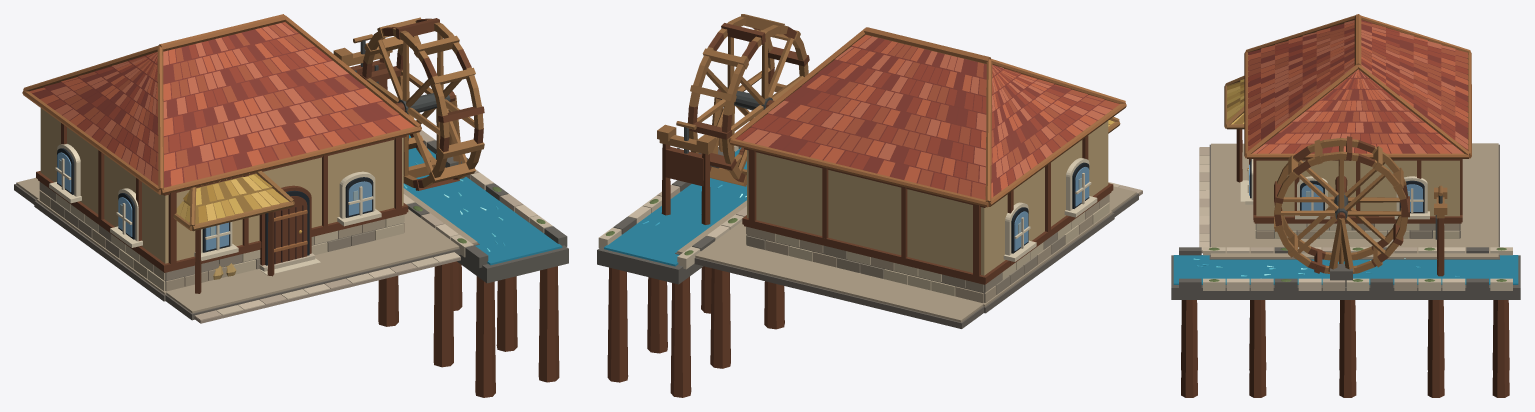
Rendered from watermill-nivel-2.glb.
3 renders of one model, left to right at view 1: azimuth 30°, elevation 25°; view 2: azimuth 150°, elevation 25°; view 3: azimuth 270°, elevation 25°, orthographic. The views are drawn at different scales.
Visible parts, largest first — view 1: Moinho 02 #70432c, Moinho 02 #853e33, Moinho 02 #c6aa7d, Moinho 02 #b4a38a, Aros e pás 1 #9f7145.001, Moinho 02 #a76e42, Moinho 02 #c06b4f, Moinho 02 #bf6243, Moinho 02 #9b4735, Moinho 02 #a8563c, Moinho 02 #256477, Moinho 02 #e6d7ba (+16 smaller); view 2: Moinho 02 #c6aa7d, Moinho 02 #70432c, Moinho 02 #853e33, Moinho 02 #b4a38a, Moinho 02 #9b4735, Moinho 02 #a8563c, Moinho 02 #a76e42, Aros e pás 1 #9f7145.001, Moinho 02 #bf6243, Moinho 02 #c06b4f, Moinho 02 #256477, Moinho 02 #746c62 (+9 smaller); view 3: Moinho 02 #70432c, Moinho 02 #b4a38a, Moinho 02 #853e33, Aros e pás 1 #9f7145.001, Moinho 02 #256477, Moinho 02 #9b4735, Moinho 02 #6a665e, Moinho 02 #bf6243, Moinho 02 #c6aa7d, Moinho 02 #a8563c, Moinho 02 #c06b4f, Moinho 02 #a76e42 (+11 smaller).
Part boxes in pixels (x1,y1,x2,y2): Moinho 02 #70432c: [36, 58, 559, 397]; Moinho 02 #853e33: [32, 23, 400, 187]; Moinho 02 #c6aa7d: [40, 108, 403, 263]; Moinho 02 #b4a38a: [16, 177, 477, 313]; Aros e pás 1 #9f7145.001: [363, 17, 484, 187]; Moinho 02 #a76e42: [22, 14, 421, 252]; Moinho 02 #c06b4f: [51, 23, 368, 180]; Moinho 02 #bf6243: [29, 28, 414, 185]; Moinho 02 #9b4735: [47, 36, 399, 172]; Moinho 02 #a8563c: [64, 22, 398, 185]; Moinho 02 #256477: [403, 135, 562, 265]; Moinho 02 #e6d7ba: [49, 144, 381, 275]; Moinho 02 #c6aa7d: [747, 121, 1108, 275]; Moinho 02 #70432c: [607, 89, 1113, 397]; Moinho 02 #853e33: [742, 36, 1112, 196]; Moinho 02 #b4a38a: [677, 186, 1136, 322]; Moinho 02 #9b4735: [736, 39, 1094, 189]; Moinho 02 #a8563c: [797, 43, 1119, 199]; Moinho 02 #a76e42: [728, 27, 1126, 207]; Aros e pás 1 #9f7145.001: [689, 14, 808, 186]; Moinho 02 #bf6243: [786, 35, 1096, 197]; Moinho 02 #c06b4f: [743, 36, 1111, 183]; Moinho 02 #256477: [604, 147, 746, 266]; Moinho 02 #746c62: [675, 193, 1138, 328]; Moinho 02 #70432c: [1181, 129, 1509, 397]; Moinho 02 #b4a38a: [1211, 143, 1498, 258]; Moinho 02 #853e33: [1248, 20, 1468, 153]; Aros e pás 1 #9f7145.001: [1274, 138, 1407, 273]; Moinho 02 #256477: [1173, 255, 1518, 284]; Moinho 02 #9b4735: [1248, 28, 1468, 153]; Moinho 02 #6a665e: [1171, 247, 1520, 299]; Moinho 02 #bf6243: [1248, 22, 1468, 153]; Moinho 02 #c6aa7d: [1256, 160, 1459, 216]; Moinho 02 #a8563c: [1248, 21, 1468, 153]; Moinho 02 #c06b4f: [1248, 20, 1468, 153]; Moinho 02 #a76e42: [1244, 14, 1471, 168].
Bounding box in the file's own units: 9.68 × 8.25 × 9.77.
